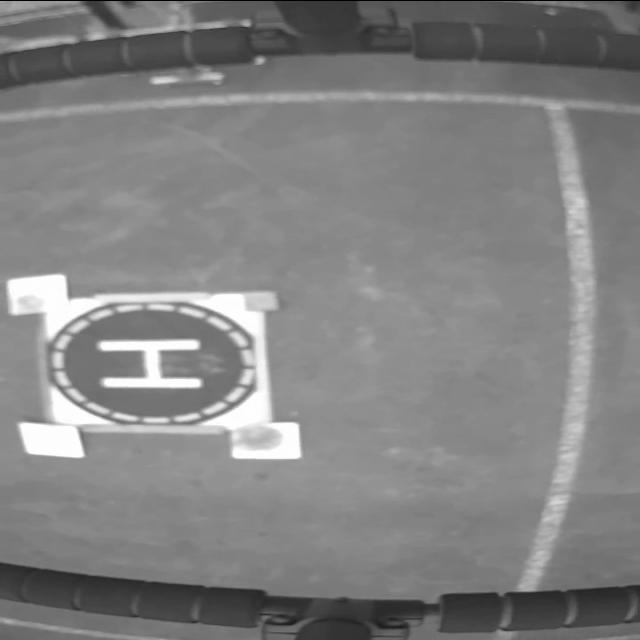Helipad: (96, 336, 207, 387)
